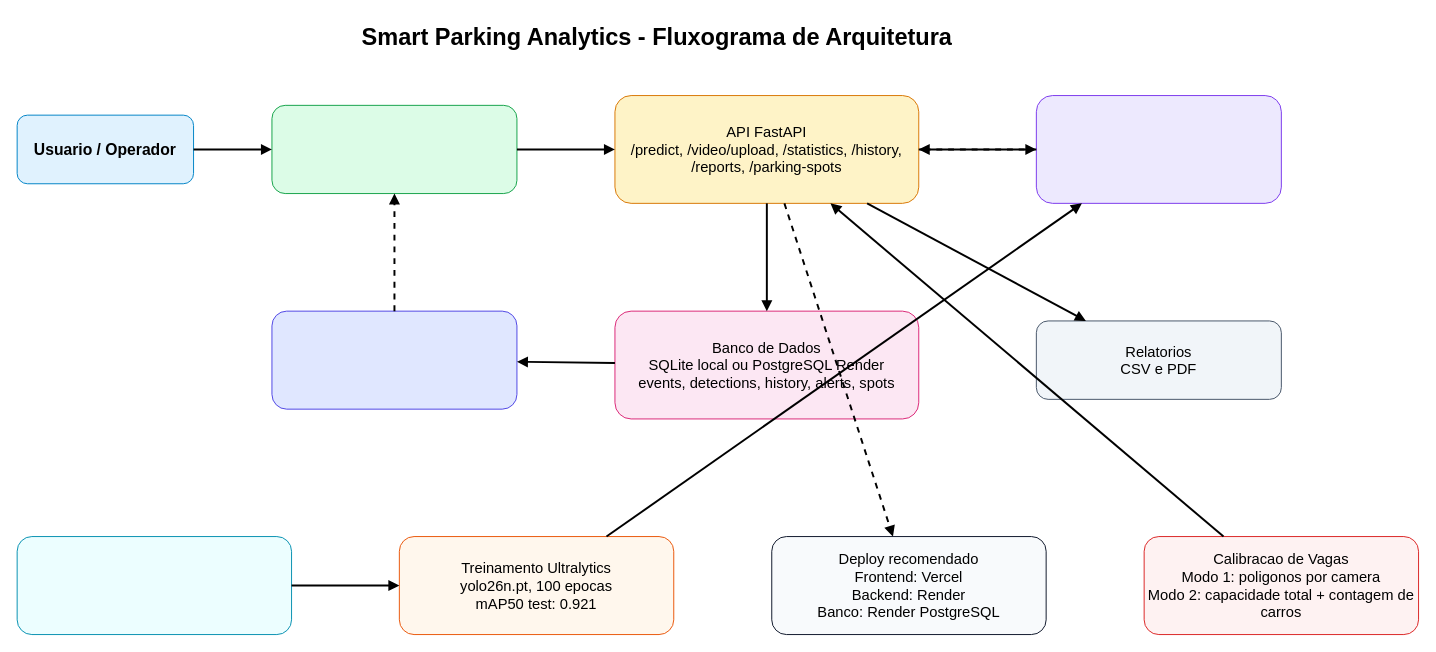
Some shapes in this 1436 by 652 pixel diagram are drawn without their labels. Here are the shapes that lost their labels. From the top down, the centre of each, then its label:
(x=394, y=149): Frontend React + Vite Dashboard, upload, graficos, relatorios
(x=1158, y=149): Servico de Inferencia YOLO backend/models/best.pt classe: car
(x=394, y=359): Analytics Service ocupacao, vagas livres, picos, historico, alertas
(x=154, y=585): Dataset Personalizado Roboflow YOLO26 166 imagens, 6688 carros, classe car
